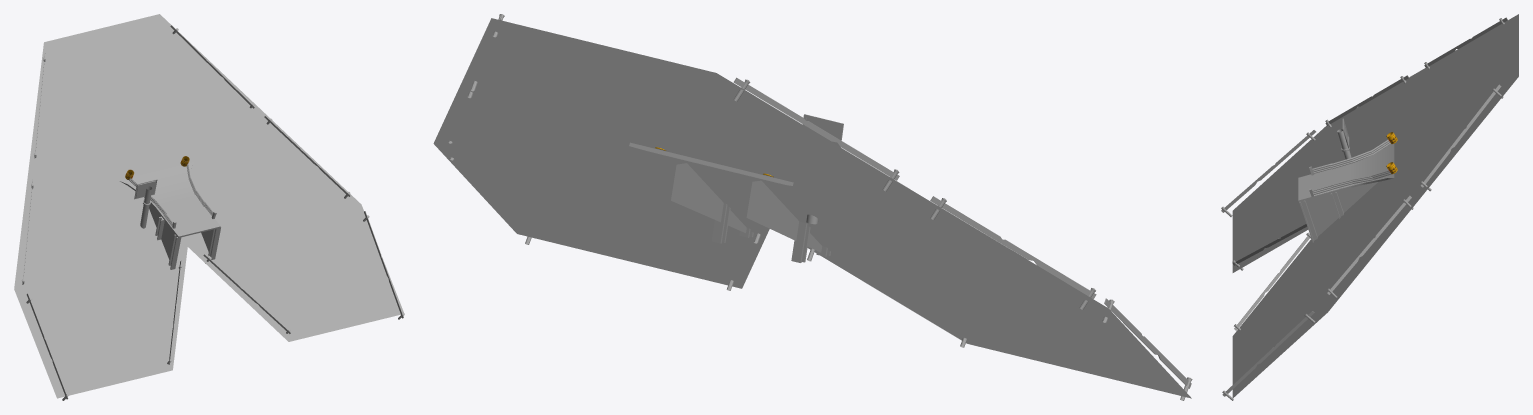
The model's file is Track_Ramp.fbx.
3 views of the same model, side by side, from view 1: azimuth 30°, elevation 25°; view 2: azimuth 150°, elevation 25°; view 3: azimuth 270°, elevation 25° (orthographic). The views are drawn at different scales.
Visible parts, largest first — view 1: Track_Ramp; view 2: Track_Ramp; view 3: Track_Ramp.
Boxes of the visible parts, left/top/right/bottom form: Track_Ramp: left=14, top=14, right=404, bottom=400; Track_Ramp: left=433, top=14, right=1192, bottom=400; Track_Ramp: left=1221, top=14, right=1518, bottom=400.
Size of the model in its own units: 66 by 43.24 by 44.14.
